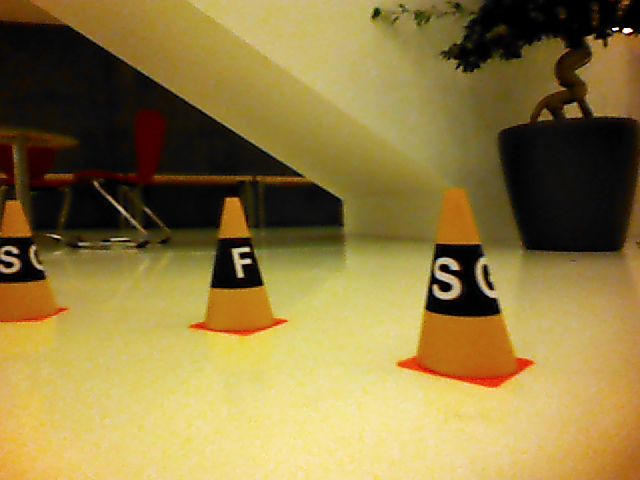yellowcone: (416, 186, 520, 373), (204, 194, 277, 330), (1, 197, 59, 322)
